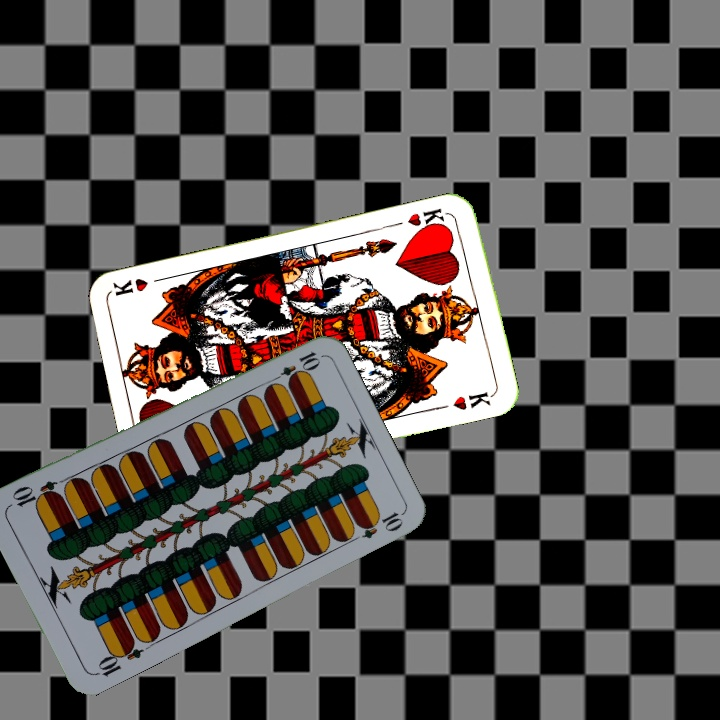E10: (90, 636, 146, 679), (267, 347, 323, 387)
HK: (403, 204, 449, 235)
